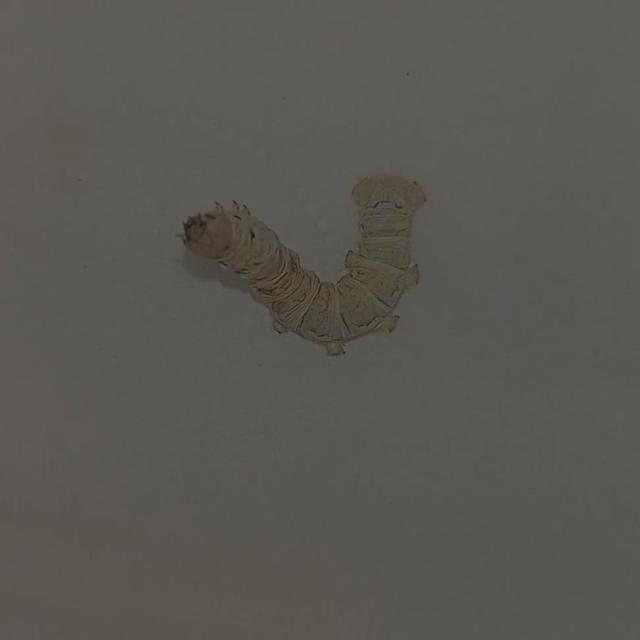Healthy: (173, 164, 441, 363)
